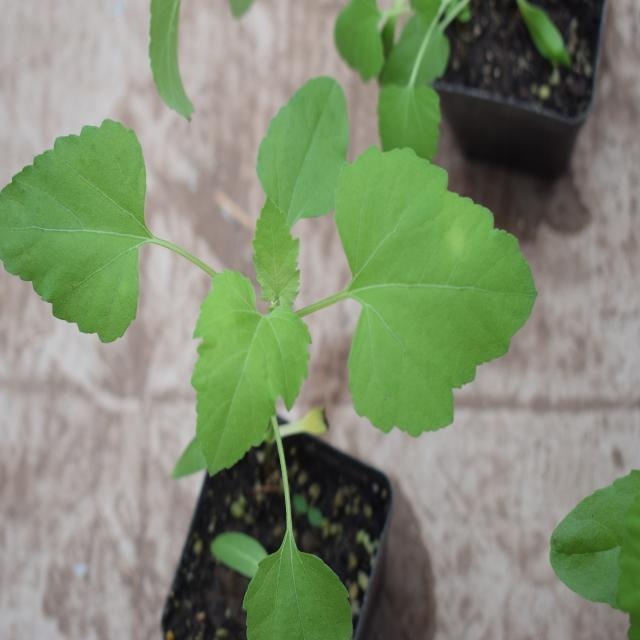cocklebur: (2, 76, 550, 478)
